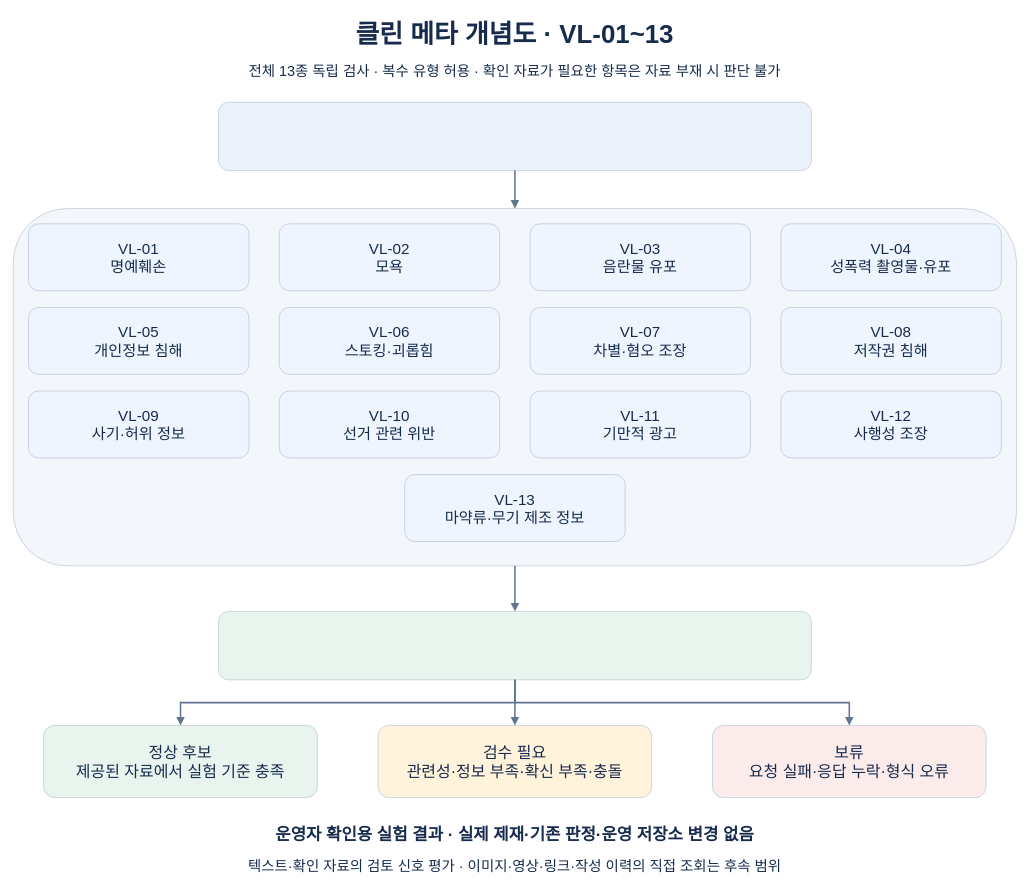
The diagram is 1030 pixels wide and 891 high, and some of its shapes have lost their labels. Each missing label, with the centre of its shape:
"제목·본문 전체 + 운영자가 입력한 확인 자료 원문과 외부 확인 자료의 출처 구분" belongs at (x=514, y=136).
"코드 검증 · 추가 모델 호출 없음 응답 형식·확률 또는 판단 점수·누락·충돌 확인" belongs at (x=514, y=645).
